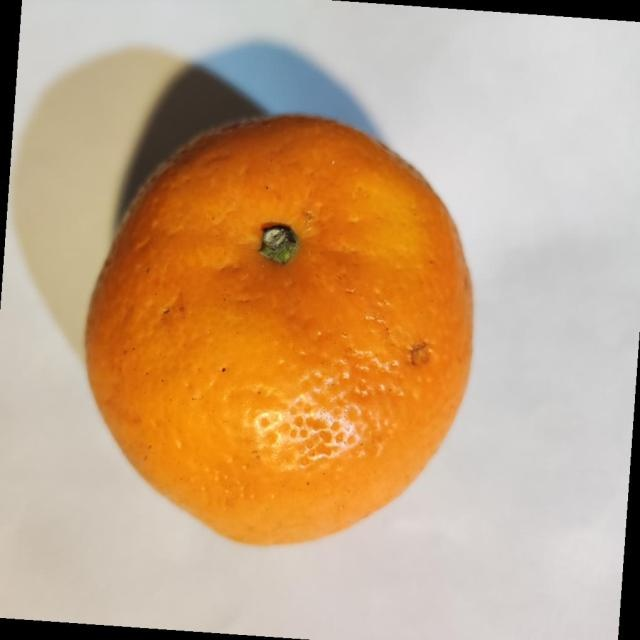agrume: (83, 111, 475, 546)
